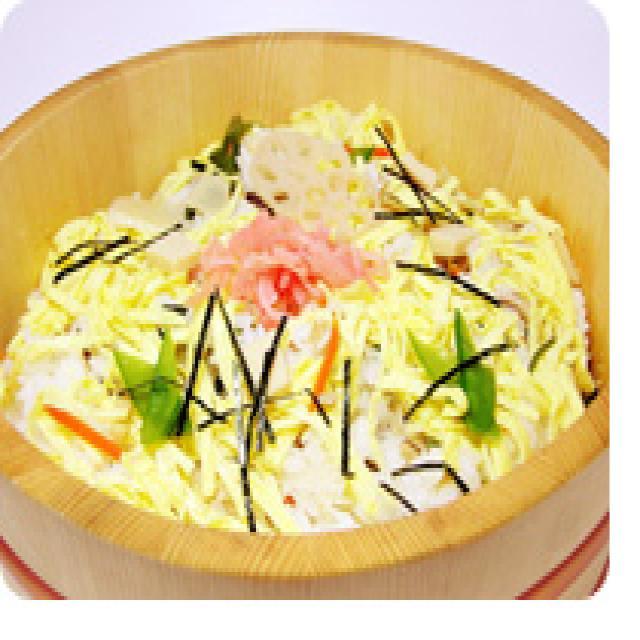寿司卷物: (0, 24, 585, 560)
